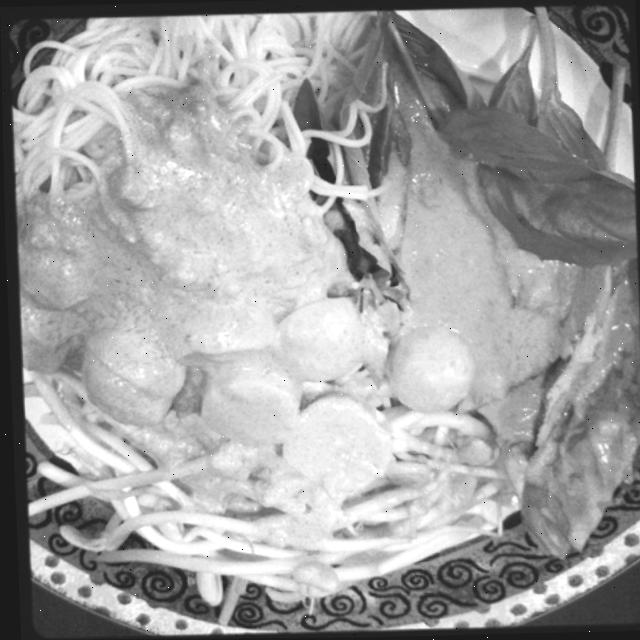面条主食: (20, 0, 585, 623)
